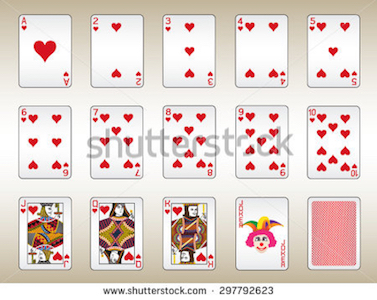10OfHearts: (304, 102, 361, 182)
2OfHearts: (89, 14, 148, 90)
3OfHearts: (157, 13, 220, 90)
4OfHearts: (233, 13, 290, 90)
5OfHearts: (305, 12, 362, 92)
6OfHearts: (15, 103, 74, 182)
7OfHearts: (88, 101, 145, 182)
8OfHearts: (160, 104, 217, 180)
9OfHearts: (232, 104, 290, 181)
AceOfHearts: (14, 12, 77, 90)
JackOfHearts: (16, 195, 74, 274)
Joker: (231, 194, 291, 273)
KingOfHearts: (160, 196, 217, 273)
QueenOfHearts: (86, 195, 146, 273)
